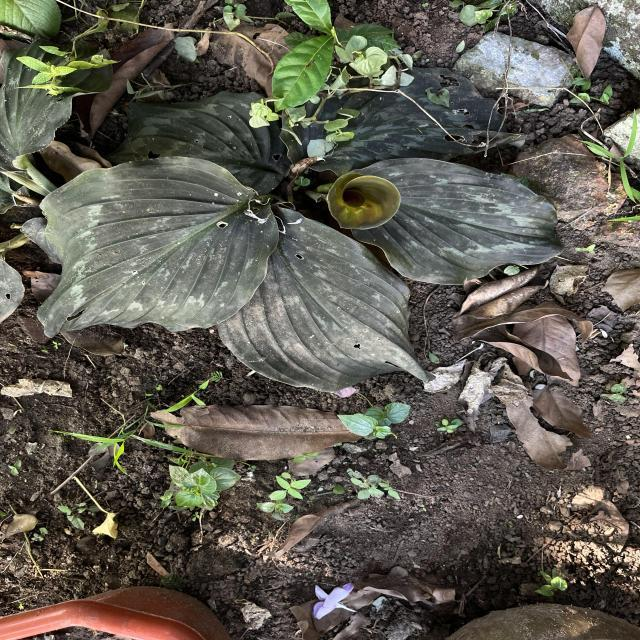Kaempferia galanga linn: (35, 154, 281, 340), (215, 206, 438, 394), (346, 156, 568, 288)
